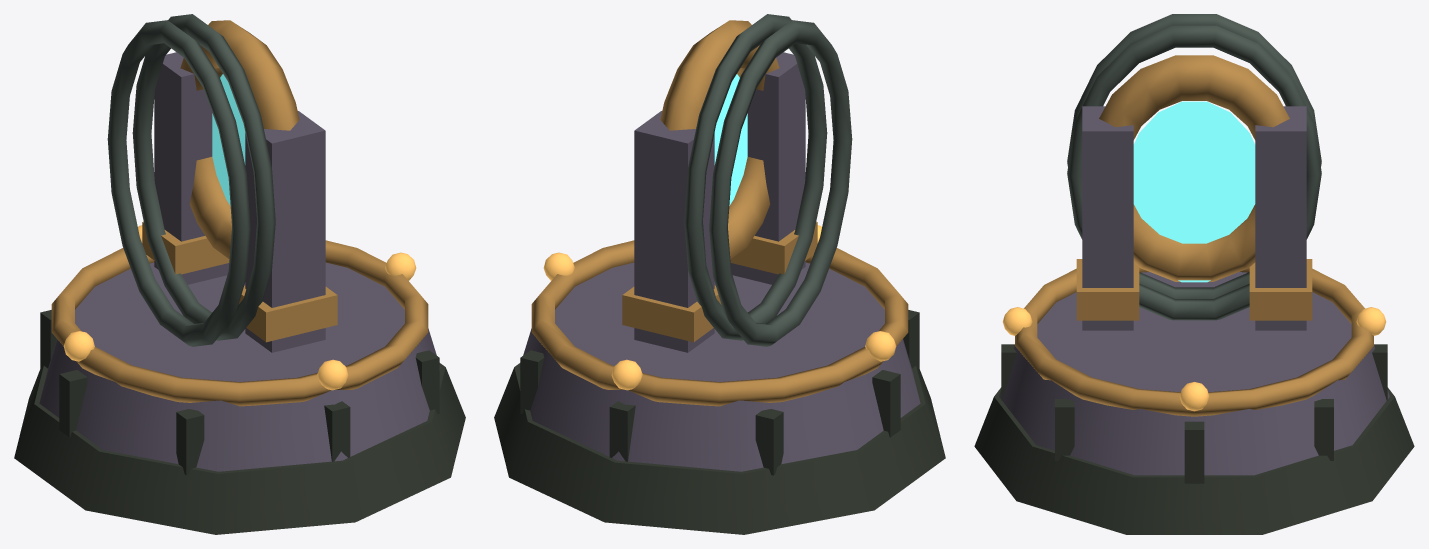
File: tower_portal_portalSluice.glb
The picture shows the model from 3 angles, left to right: view 1: azimuth 30°, elevation 25°; view 2: azimuth 150°, elevation 25°; view 3: azimuth 270°, elevation 25°; orthographic projection. The views are drawn at different scales.
Visible parts, largest first — view 1: stone_1, foot_0, time_gate_22, rim_2, time_gate_21, arch_pillar_15, arch_pillar_17, arch_19, band_16, band_18, mortar_6, mortar_7 (+7 smaller); view 2: stone_1, foot_0, time_gate_22, rim_2, time_gate_21, arch_pillar_17, arch_pillar_15, arch_19, band_18, band_16, mortar_8, mortar_7 (+7 smaller); view 3: stone_1, foot_0, portal_surface_20, arch_19, rim_2, time_gate_21, arch_pillar_15, arch_pillar_17, time_gate_22, band_16, band_18, mortar_3 (+7 smaller).
Boxes of the visible parts, bbox=[...] form: stone_1: bbox=[39, 262, 440, 471]; foot_0: bbox=[14, 363, 465, 534]; time_gate_22: bbox=[107, 20, 250, 346]; rim_2: bbox=[51, 240, 428, 406]; time_gate_21: bbox=[132, 14, 275, 340]; arch_pillar_15: bbox=[245, 111, 325, 352]; arch_pillar_17: bbox=[154, 52, 229, 284]; arch_19: bbox=[180, 20, 299, 259]; band_16: bbox=[238, 285, 337, 342]; band_18: bbox=[142, 221, 229, 274]; mortar_6: bbox=[176, 409, 204, 475]; mortar_7: bbox=[59, 370, 87, 437]; stone_1: bbox=[519, 262, 920, 471]; foot_0: bbox=[494, 363, 945, 534]; time_gate_22: bbox=[709, 20, 852, 346]; rim_2: bbox=[531, 240, 908, 406]; time_gate_21: bbox=[684, 14, 827, 340]; arch_pillar_17: bbox=[634, 111, 714, 352]; arch_pillar_15: bbox=[730, 52, 805, 284]; arch_19: bbox=[660, 20, 779, 259]; band_18: bbox=[622, 285, 721, 342]; band_16: bbox=[730, 221, 817, 274]; mortar_8: bbox=[755, 409, 783, 475]; mortar_7: bbox=[872, 370, 900, 437]; stone_1: bbox=[999, 272, 1389, 475]; foot_0: bbox=[974, 387, 1414, 534]; portal_surface_20: bbox=[1133, 101, 1255, 282]; arch_19: bbox=[1099, 55, 1289, 281]; rim_2: bbox=[1015, 267, 1373, 416]; time_gate_21: bbox=[1067, 25, 1321, 320]; arch_pillar_15: bbox=[1082, 106, 1133, 330]; arch_pillar_17: bbox=[1255, 106, 1306, 330]; time_gate_22: bbox=[1067, 14, 1321, 298]; band_16: bbox=[1076, 259, 1139, 320]; band_18: bbox=[1249, 259, 1312, 320]; mortar_3: bbox=[1184, 421, 1204, 483].
Bounding box in the file's own units: 0.5326 × 0.5674 × 0.56.
